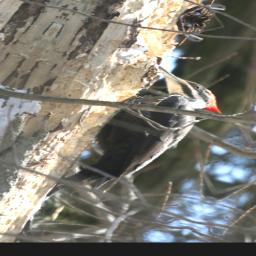Woodpecker: (44, 62, 243, 225)
